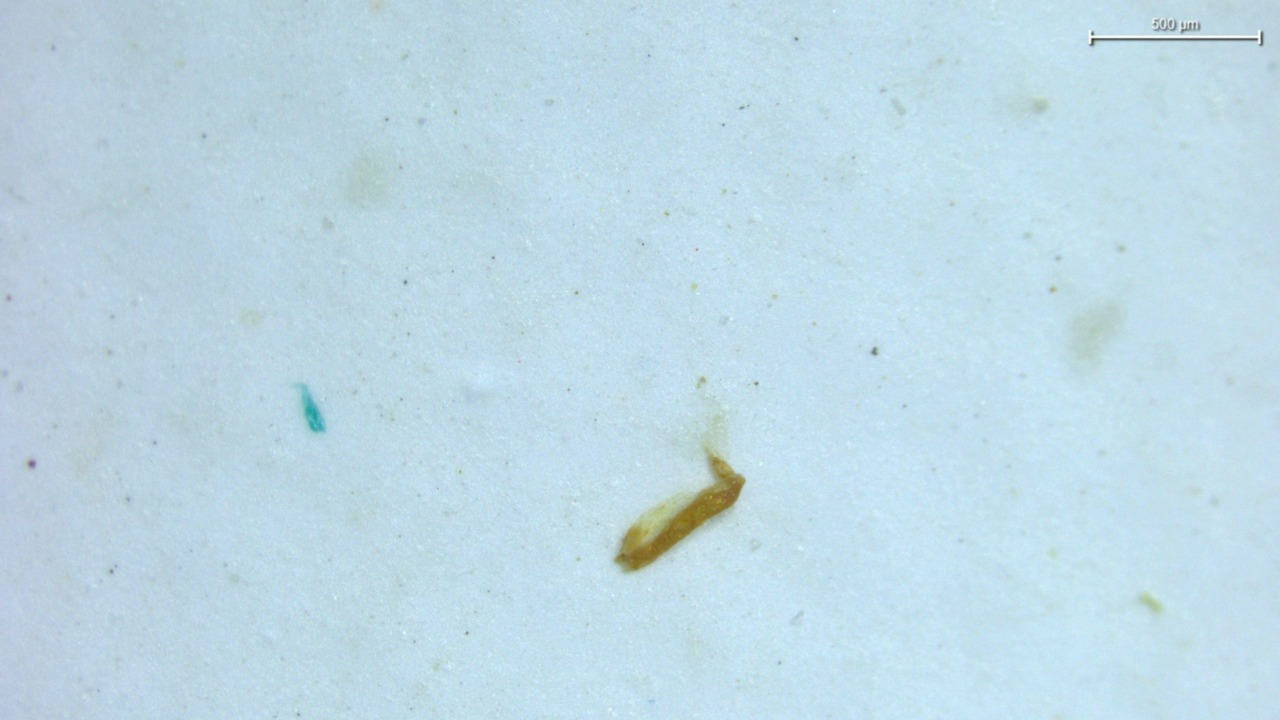microplastic_fragment: (616, 454, 745, 570), (300, 384, 325, 432)
